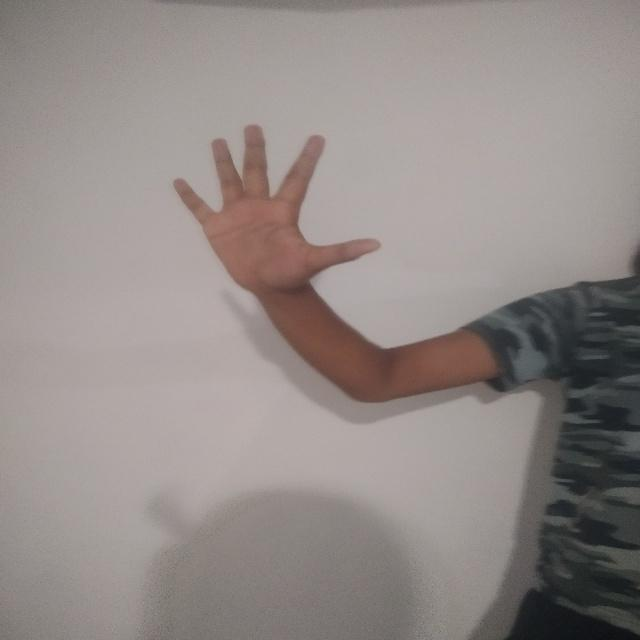Moutza: (170, 120, 386, 313)
